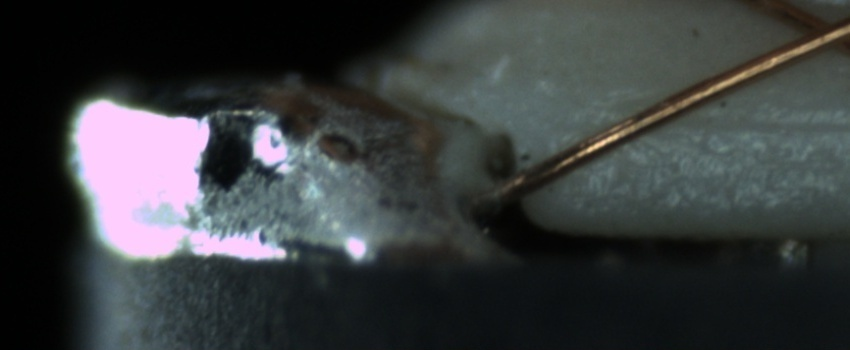CL: (772, 2, 850, 62)
DL: (624, 88, 847, 158)
